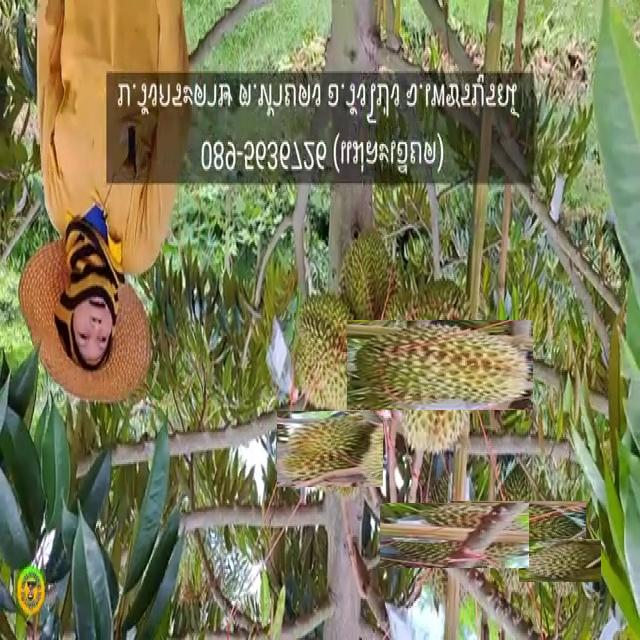durian: (371, 295, 509, 434), (290, 286, 374, 424), (401, 481, 508, 589), (469, 480, 565, 577), (285, 403, 376, 495), (529, 529, 591, 592)
